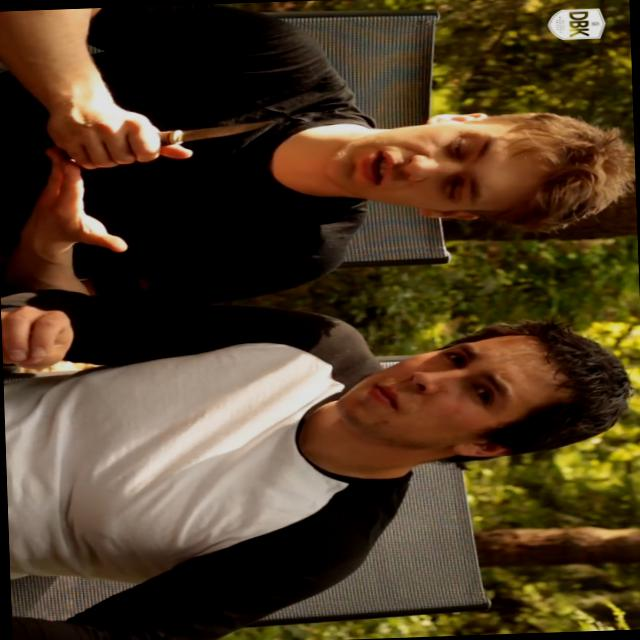knife: (90, 102, 292, 171)
